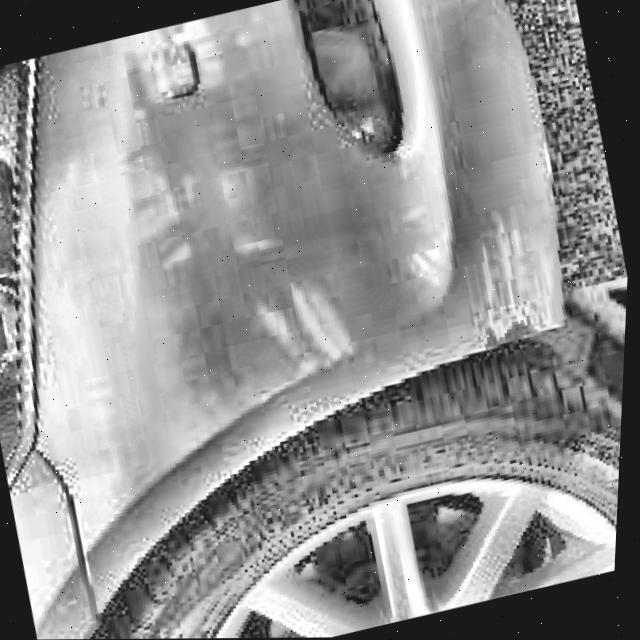bumper_scratch: (454, 216, 580, 357)
